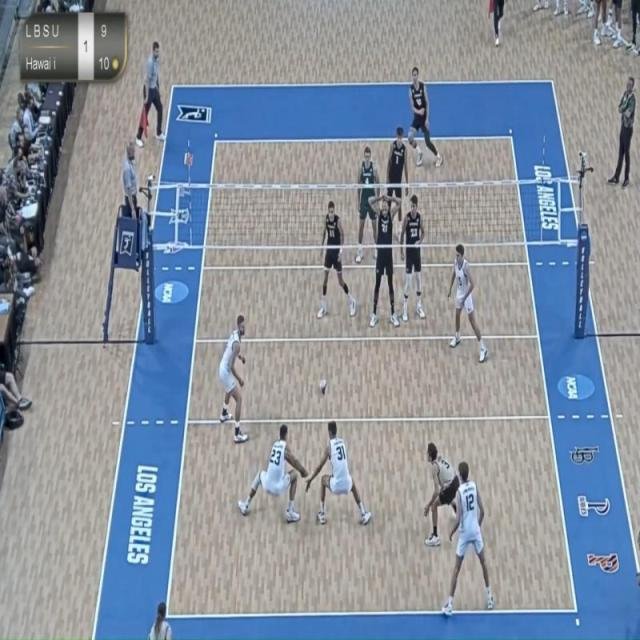volleyball: (316, 374, 330, 399)
